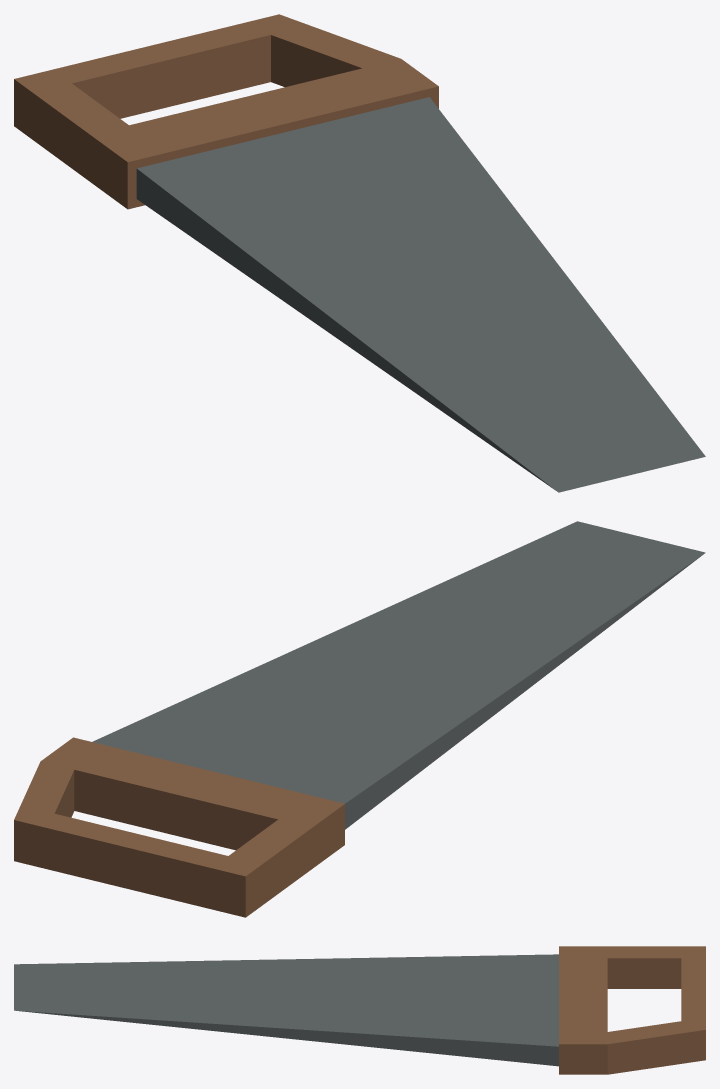
File: Saw_1_Light_Brown.fbx
The picture shows the model from 3 angles, top to bottom: view 1: azimuth 30°, elevation 25°; view 2: azimuth 150°, elevation 25°; view 3: azimuth 270°, elevation 25°; orthographic projection. The views are drawn at different scales.
Visible parts, largest first — view 1: Saw_1_Light_Brown; view 2: Saw_1_Light_Brown; view 3: Saw_1_Light_Brown.
Boxes of the visible parts, x1=… form: Saw_1_Light_Brown: x1=14, y1=14, x2=705, y2=492; Saw_1_Light_Brown: x1=14, y1=521, x2=705, y2=917; Saw_1_Light_Brown: x1=14, y1=946, x2=705, y2=1074.
Size of the model in its own units: 21.21 by 3.07 by 63.27.
